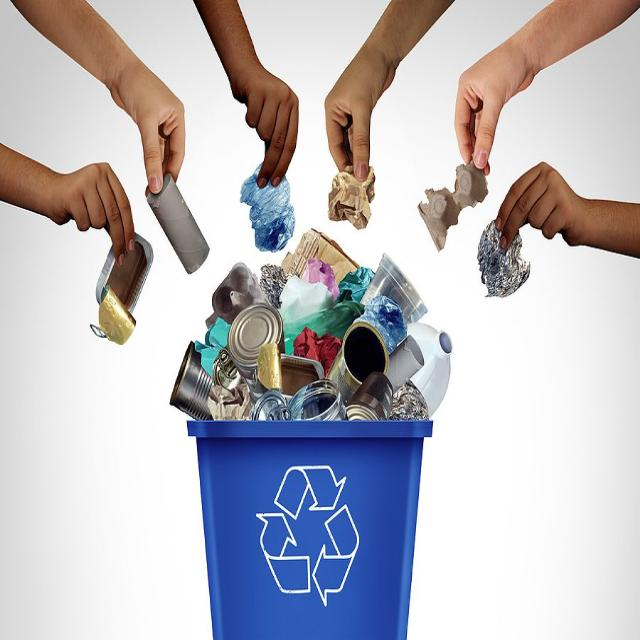cardboard: (149, 199, 218, 271), (418, 174, 486, 240)
metal: (172, 349, 240, 422), (225, 303, 279, 358), (326, 334, 368, 382)
paper: (328, 176, 371, 227)
plastic: (349, 270, 445, 364), (259, 385, 427, 430), (92, 249, 153, 343), (492, 221, 528, 306), (250, 178, 288, 240)
